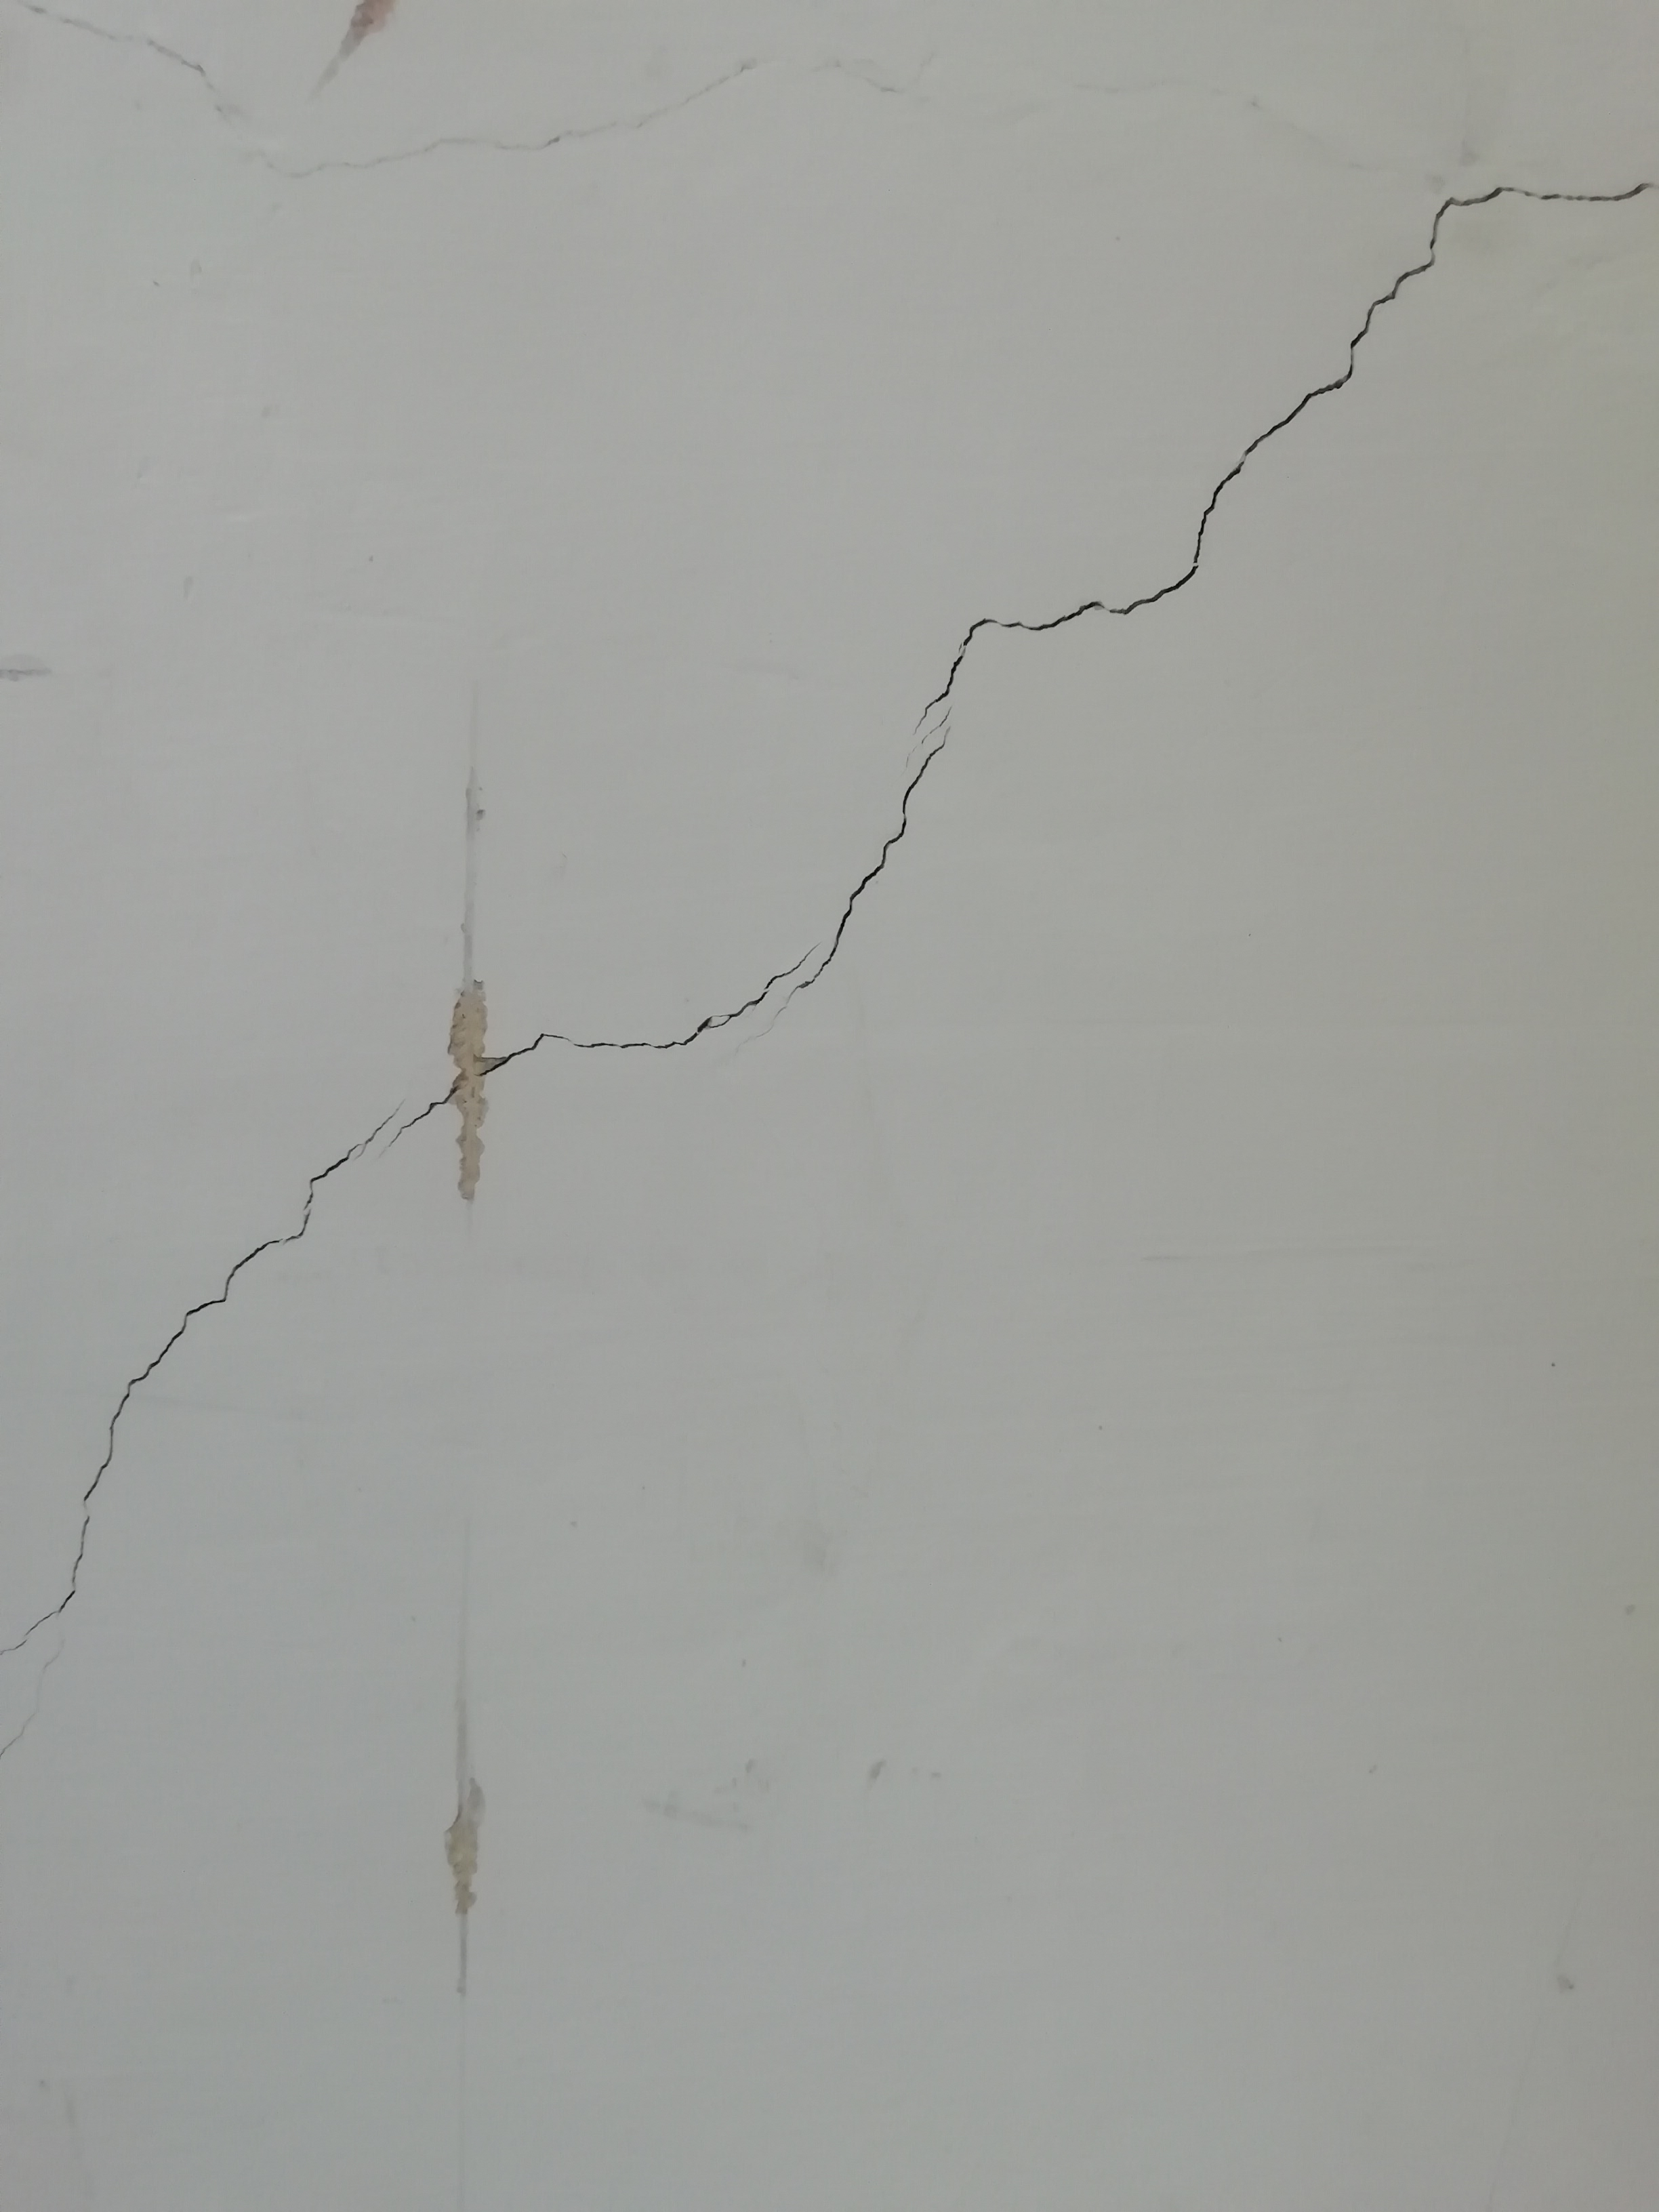Crack: (946, 165, 1647, 702), (61, 1247, 272, 1597), (819, 725, 941, 965), (497, 967, 802, 1057)
